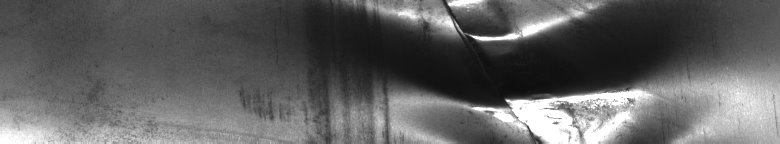ke: (348, 4, 653, 136)
